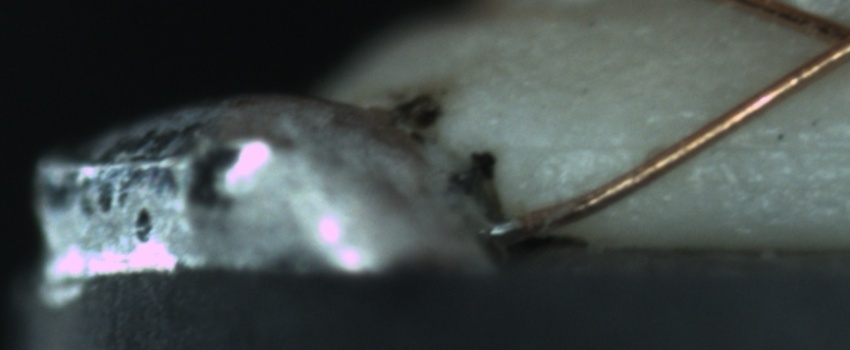CL: (800, 9, 849, 77)
DL: (531, 113, 850, 177)
